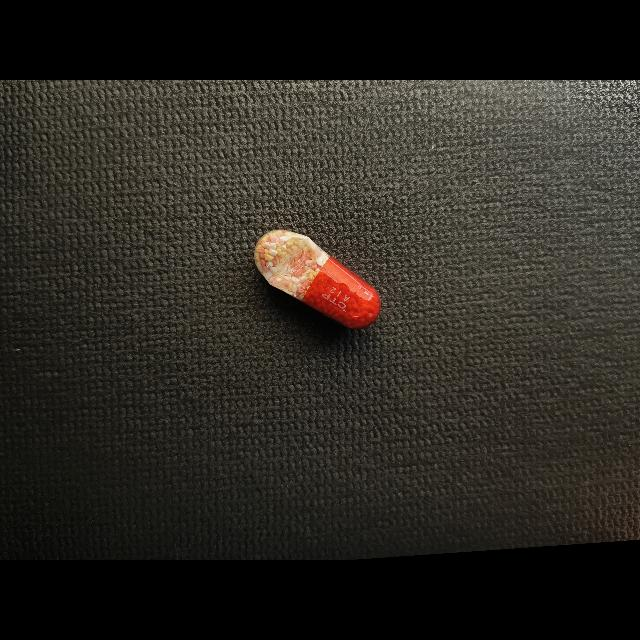Defective Capsule: (254, 229, 381, 329)
